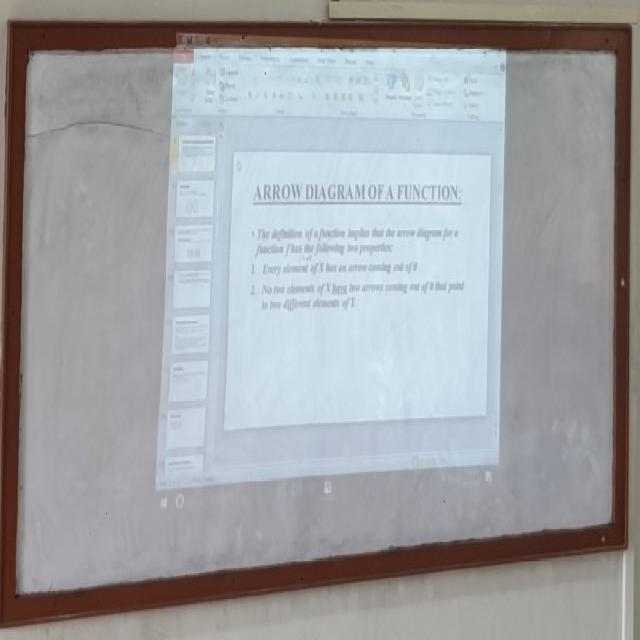Slide: (152, 19, 506, 517)
White-board: (5, 28, 624, 607)
